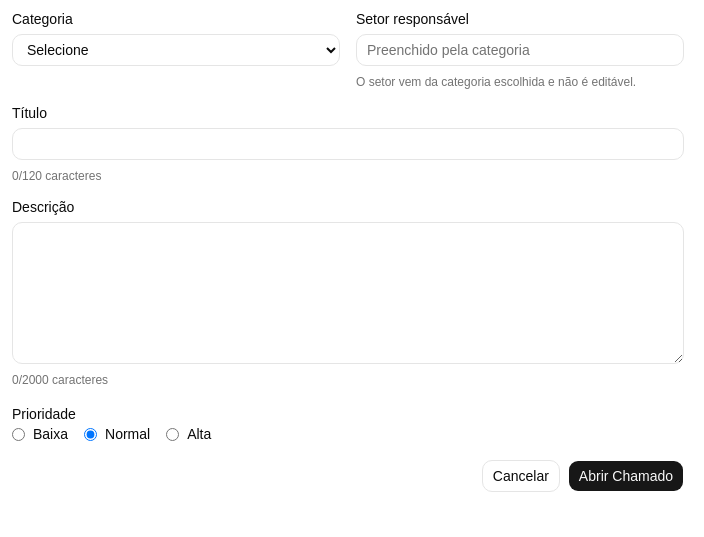
NewTicketForm (Tela 4, US1.2, BR9.3) › places a field error of the server next to its field (BR6.3)
Select "Documentos" in the dropdown labelled "Categoria" at (176, 50), box 12,34 -> 340,66
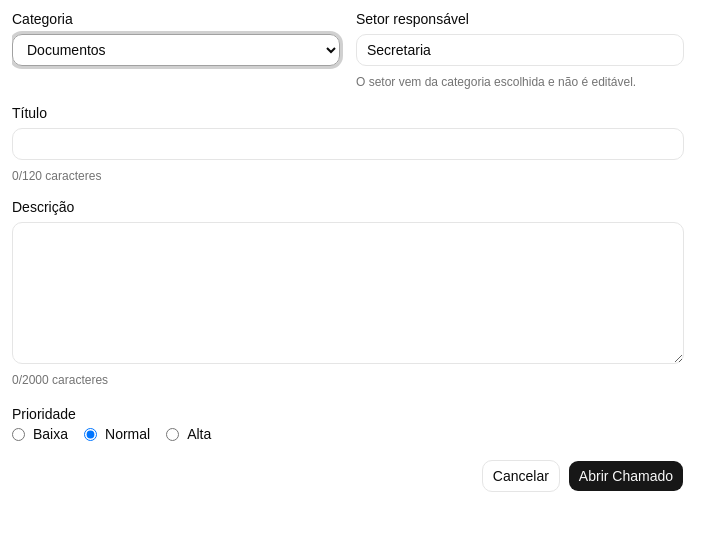
Type "  Revisão de nota  " into the field labelled "Título" at (348, 144), box 12,128 -> 684,160
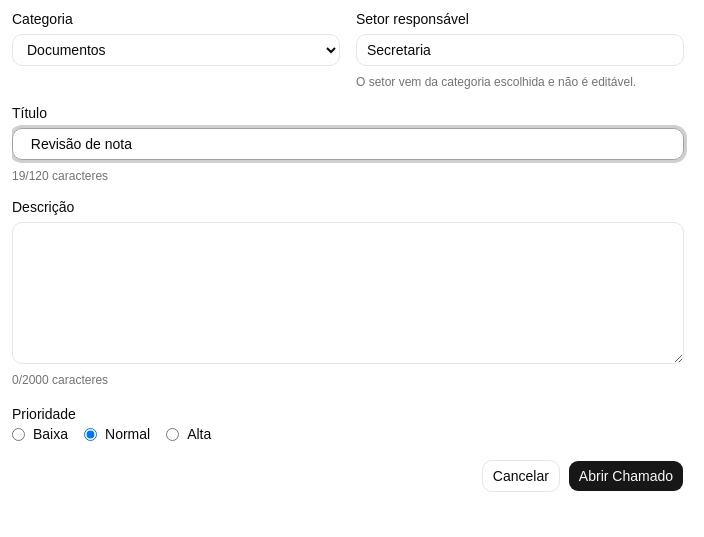
Type "  Gostaria de solicitar a revisão da nota da P2.  " into the text box labelled "Descrição" at (348, 293), box 12,222 -> 684,364
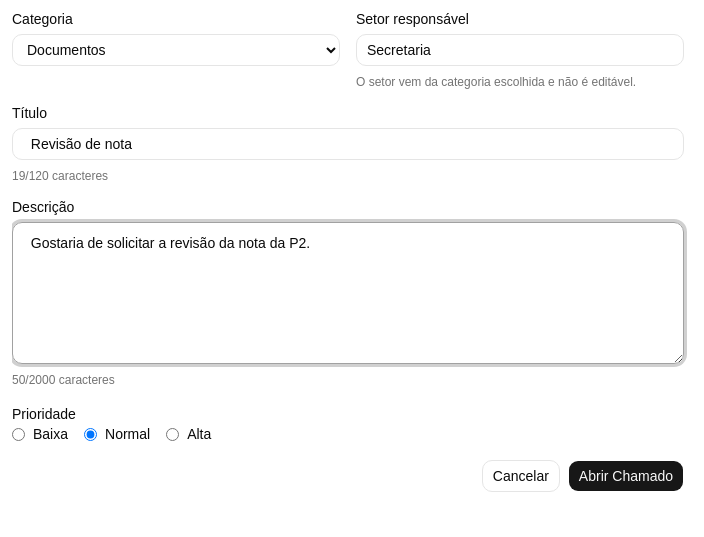
Click the button "Abrir Chamado" at (626, 476), box 568,460 -> 684,492
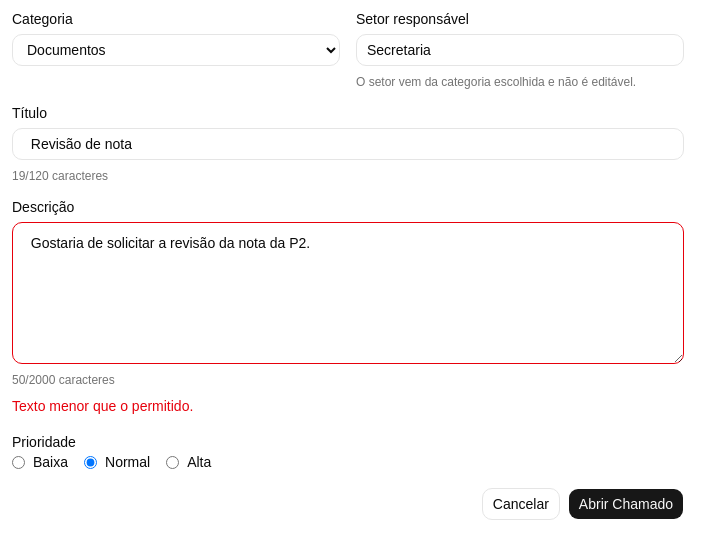
Now the text "Texto menor que o permitido." is shown, box 12,398 -> 193,414
